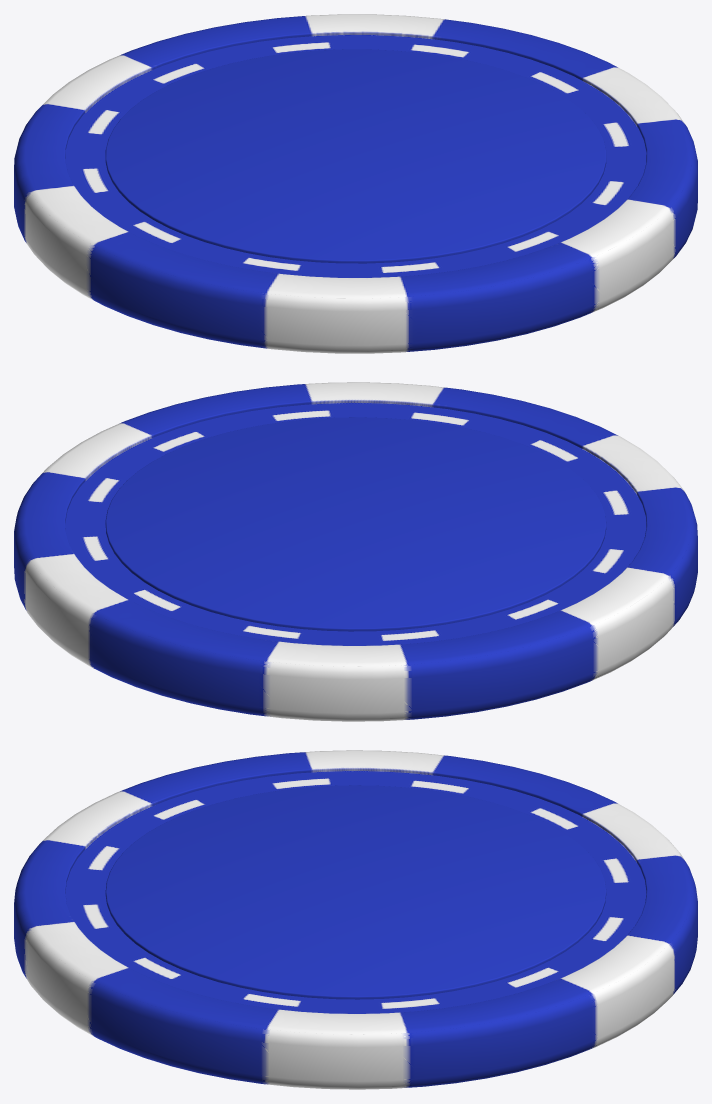
The model's file is blue.glb.
3 renders of one model, top to bottom at view 1: azimuth 30°, elevation 25°; view 2: azimuth 150°, elevation 25°; view 3: azimuth 270°, elevation 25°, orthographic.
Visible parts, largest first — view 1: chips.461_chips_blue_bake_0; view 2: chips.461_chips_blue_bake_0; view 3: chips.461_chips_blue_bake_0.
Part boxes in pixels (bbox=[...]): chips.461_chips_blue_bake_0: bbox=[14, 14, 697, 353]; chips.461_chips_blue_bake_0: bbox=[14, 382, 697, 721]; chips.461_chips_blue_bake_0: bbox=[14, 750, 697, 1089].
Size of the model in its own units: 2 by 0.1882 by 2.
Materials: 1 (1 with a texture image).
